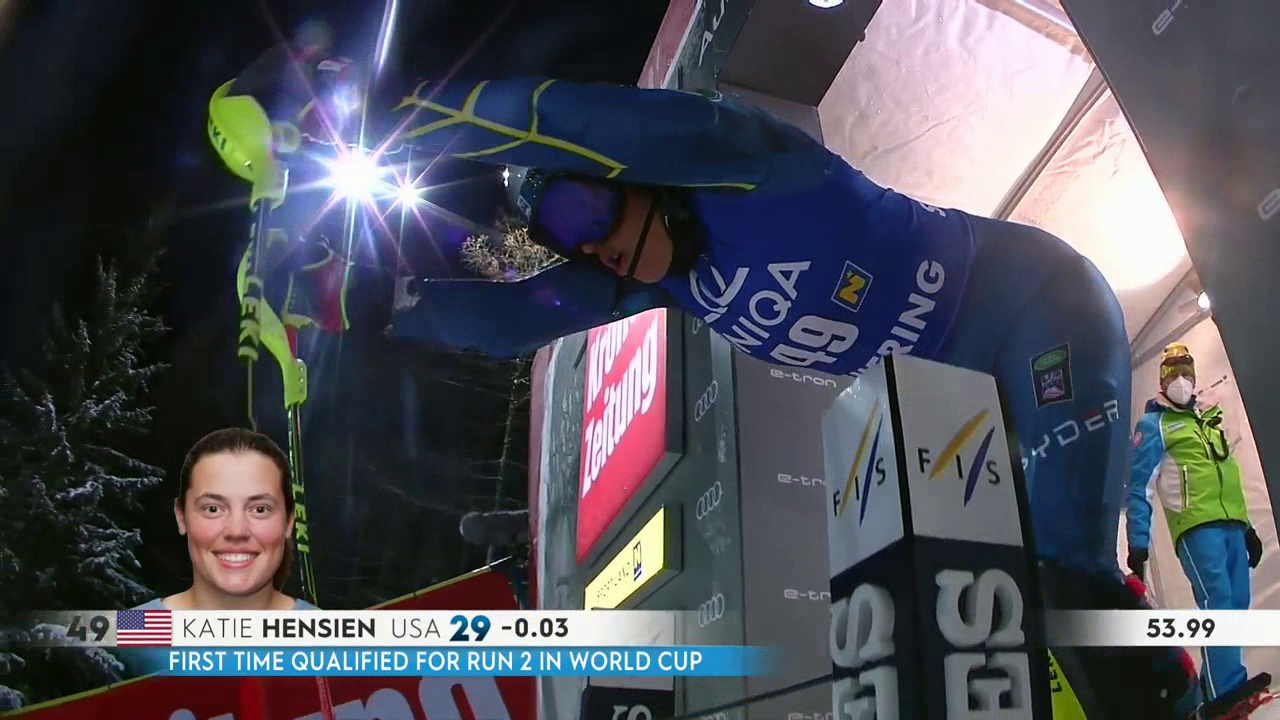audi: (690, 478, 731, 529), (690, 591, 733, 637)
etron: (783, 579, 834, 607)
longines: (911, 557, 1046, 710)
uniqa: (672, 246, 840, 363)
